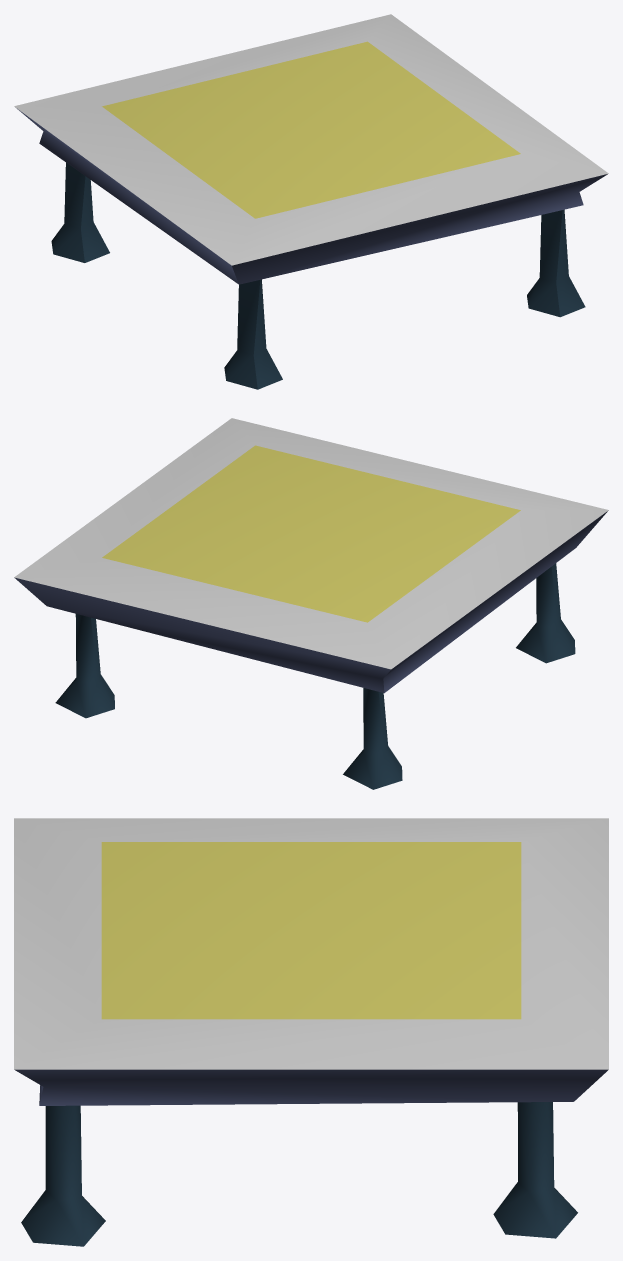
The model's file is platform_one.fbx.
3 views of the same model, one above another, from view 1: azimuth 30°, elevation 25°; view 2: azimuth 150°, elevation 25°; view 3: azimuth 270°, elevation 25° (orthographic). The views are drawn at different scales.
Parts seen in each view (by area): view 1: platform_one, platform_one2, platform_one4, platform_one1; view 2: platform_one, platform_one3, platform_one1, platform_one2; view 3: platform_one, platform_one4, platform_one3.
Part boxes in pixels (x1=…): platform_one: x1=14, y1=14, x2=608, y2=284; platform_one2: x1=224, y1=279, x2=282, y2=389; platform_one4: x1=527, y1=209, x2=585, y2=317; platform_one1: x1=51, y1=162, x2=109, y2=262; platform_one: x1=14, y1=418, x2=608, y2=693; platform_one3: x1=55, y1=614, x2=114, y2=718; platform_one1: x1=343, y1=688, x2=402, y2=789; platform_one2: x1=516, y1=563, x2=575, y2=663; platform_one: x1=14, y1=818, x2=608, y2=1105; platform_one4: x1=21, y1=1105, x2=105, y2=1246; platform_one3: x1=493, y1=1102, x2=577, y2=1238.
Bounding box in the file's own units: 723 × 264 × 723.
